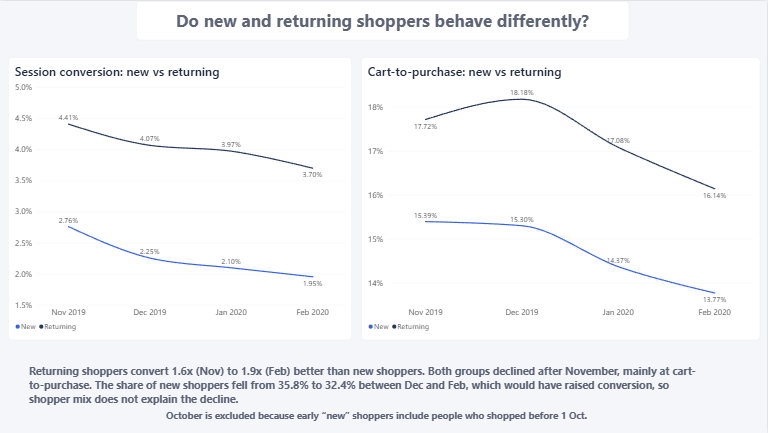

The page's visual inventory and layout, read from the dashboard file:
{"tool":"powerbi","page":{"name":"Shoppers","canvas":[1920,1080],"ordinal":1},"visuals":[{"type":"textbox","box":[75,905,1690,175],"z":0},{"type":"textbox","box":[342.5,0,1232.5,97.5],"z":1000},{"type":"lineChart","title":"Session conversion: new vs returning","fields":{"Category":["new_vs_returning.month_label"],"Series":["new_vs_returning.shopper_type"],"Y":["new_vs_returning.Conv %"]},"box":[22.5,140,860,707.5],"z":2000},{"type":"lineChart","title":"Cart-to-purchase: new vs returning","fields":{"Category":["new_vs_returning.month_label"],"Series":["new_vs_returning.shopper_type"],"Y":["new_vs_returning.Cart to Purchase %"]},"box":[905,140,997.5,707.5],"z":3000},{"type":"textbox","box":[417.5,1020,1082.5,60],"z":4000}]}

Visuals, with their boxes in screenshot pixels (x1, y1, x2, y2), scaled from the page's 1920x1080 canvas onto the 768x433 screenshot:
textbox: crop(30, 363, 706, 432)
textbox: crop(137, 0, 630, 39)
"Session conversion: new vs returning" lineChart: crop(9, 56, 353, 340)
"Cart-to-purchase: new vs returning" lineChart: crop(362, 56, 761, 340)
textbox: crop(167, 409, 600, 432)
